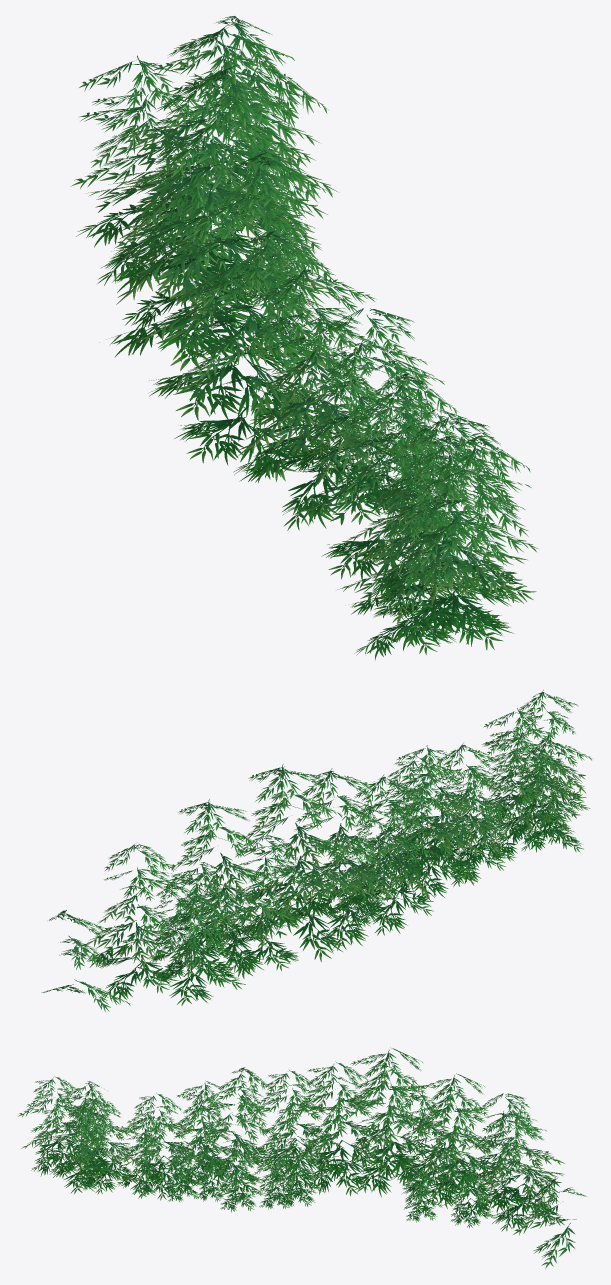
The model's file is Area_13_19.fbx.
3 renders of one model, top to bottom at view 1: azimuth 30°, elevation 25°; view 2: azimuth 150°, elevation 25°; view 3: azimuth 270°, elevation 25°, orthographic. The views are drawn at different scales.
Parts seen in each view (by area): view 1: Area_13_19; view 2: Area_13_19; view 3: Area_13_19.
Part boxes in pixels (x1=…): Area_13_19: x1=70, y1=16, x2=538, y2=660; Area_13_19: x1=41, y1=690, x2=592, y2=1011; Area_13_19: x1=18, y1=1047, x2=586, y2=1268.
Bounding box in the file's own units: 2132 × 1509 × 4869.
